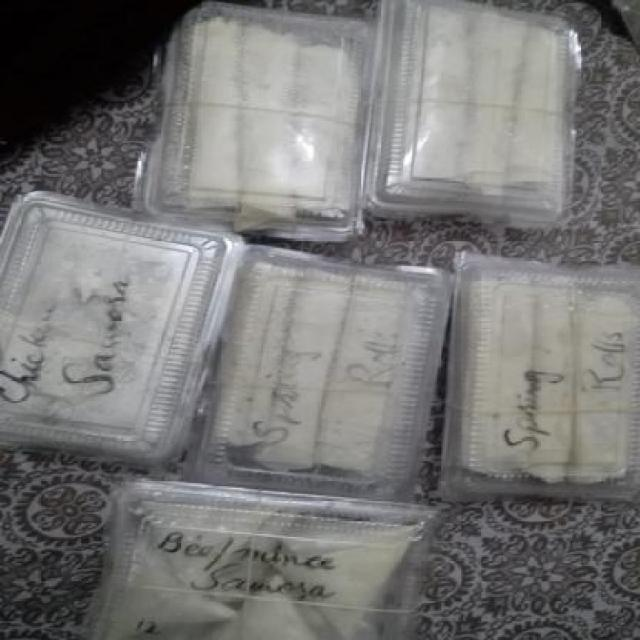samosa: (113, 492, 412, 636), (10, 198, 164, 436)
spring rolls: (179, 13, 627, 475)
